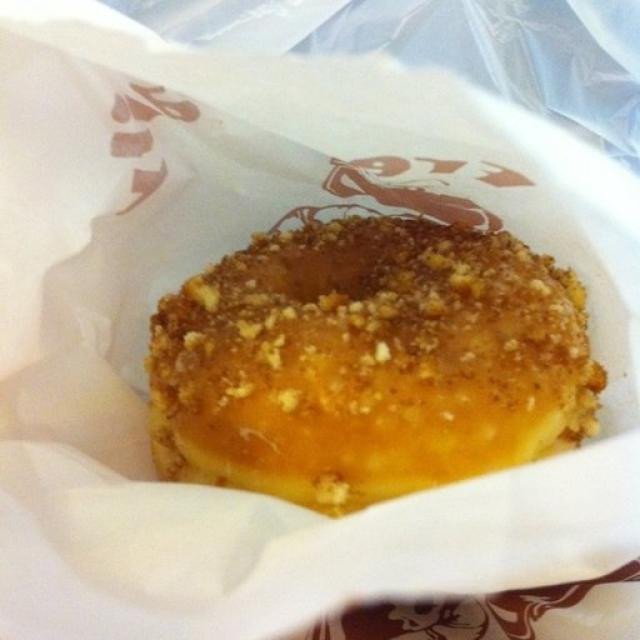Donuts: (126, 200, 626, 552)
